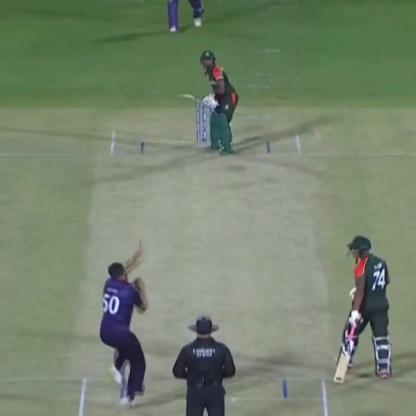bat: (328, 305, 364, 388), (171, 90, 211, 114)
pitch: (72, 121, 339, 416)
